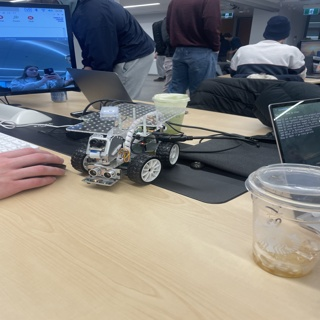vehicle: (65, 97, 180, 186)
